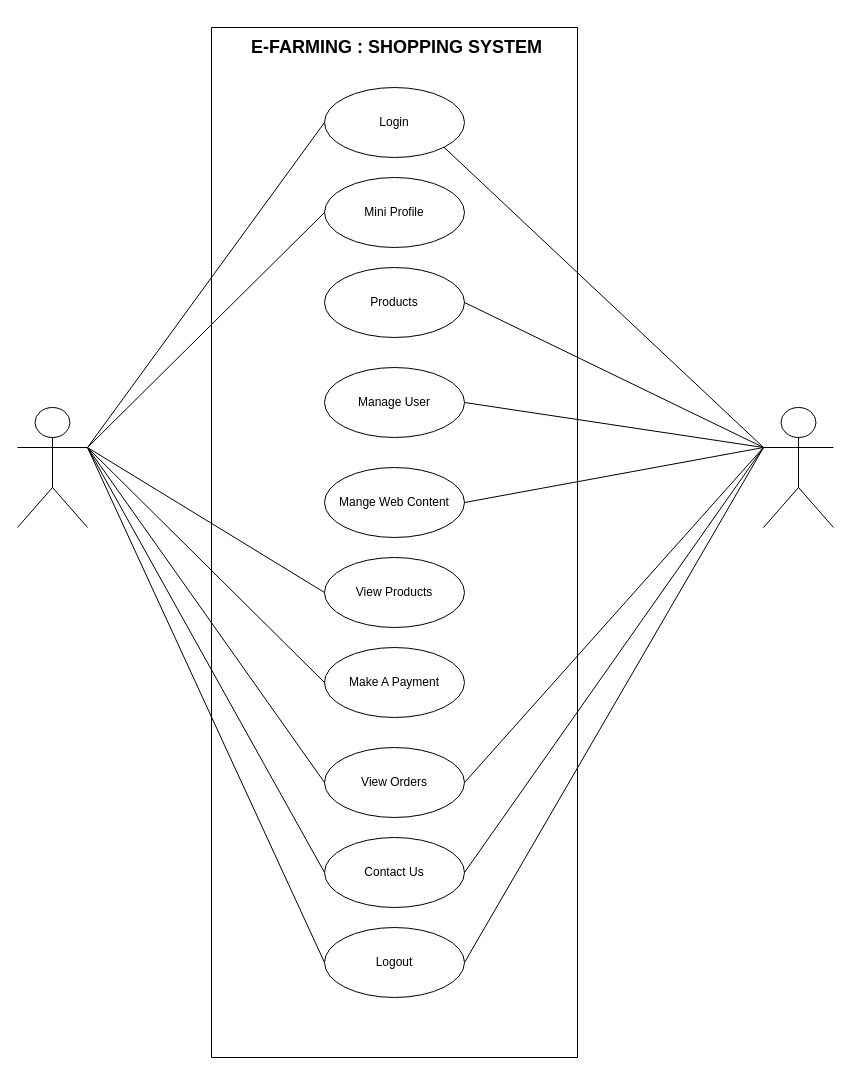
Image size: 851x1075. Some labels were removed from this diagram. The centre of each missing label's shape, as x and y in pixels:
"Admin" belongs at [798,467].
"USER" belongs at [52,467].
